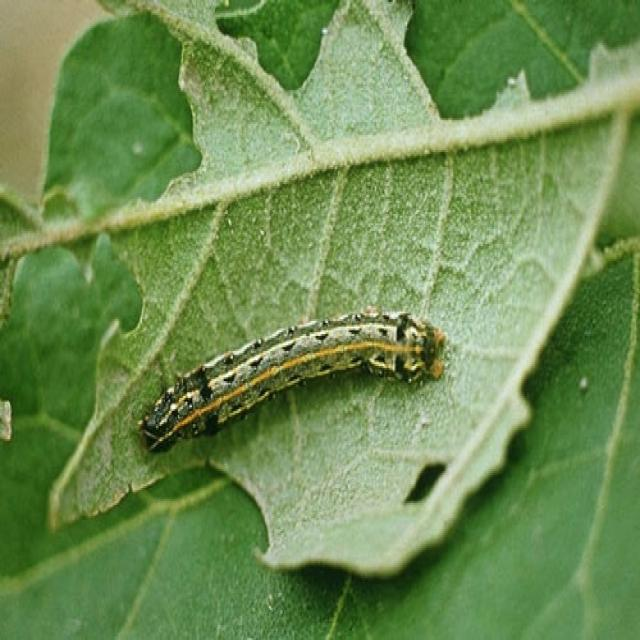armyworm: (137, 302, 448, 452)
